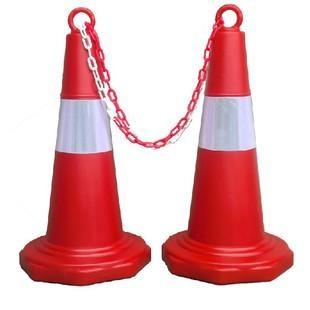cone_barrel: (28, 6, 141, 284), (169, 5, 282, 283)
